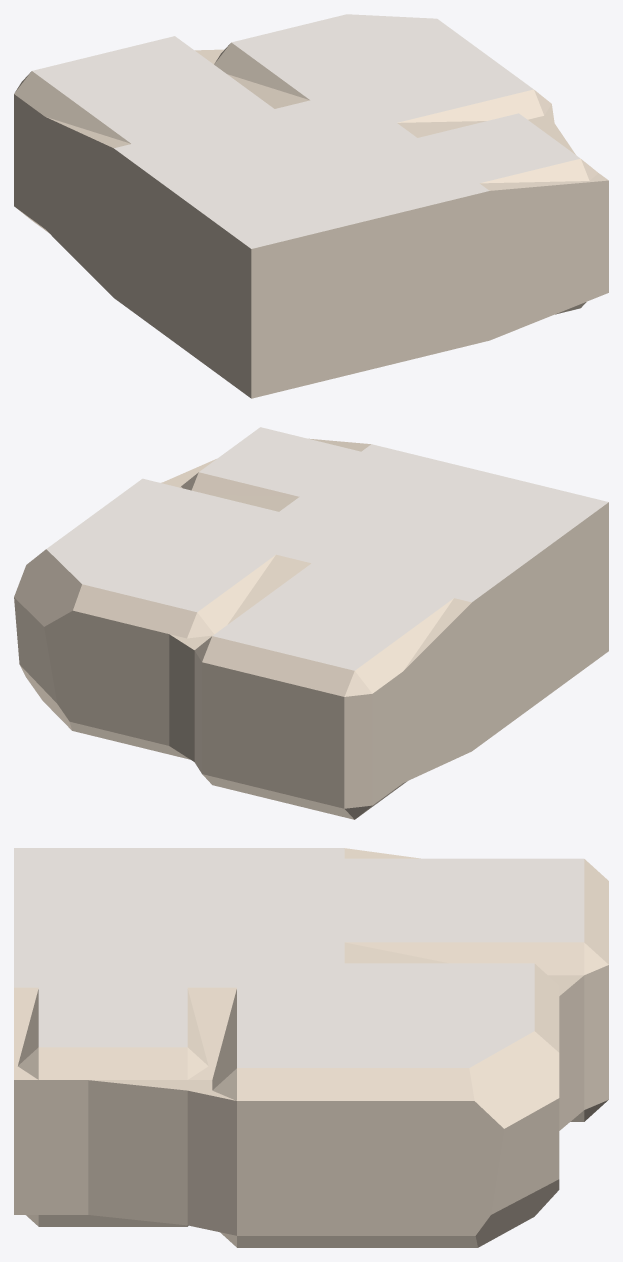
File: temple_Floor_Ruined_Corner_Outer_1.glb
The picture shows the model from 3 angles, top to bottom: view 1: azimuth 30°, elevation 25°; view 2: azimuth 150°, elevation 25°; view 3: azimuth 270°, elevation 25°; orthographic projection. The views are drawn at different scales.
Visible parts, largest first — view 1: object1; view 2: object1; view 3: object1.
Part boxes in pixels (x1,y1,x2,y2): object1: (14, 14, 608, 398); object1: (14, 427, 608, 819); object1: (14, 848, 608, 1247).
Size of the model in its own units: 0.55 by 0.2 by 0.6.
